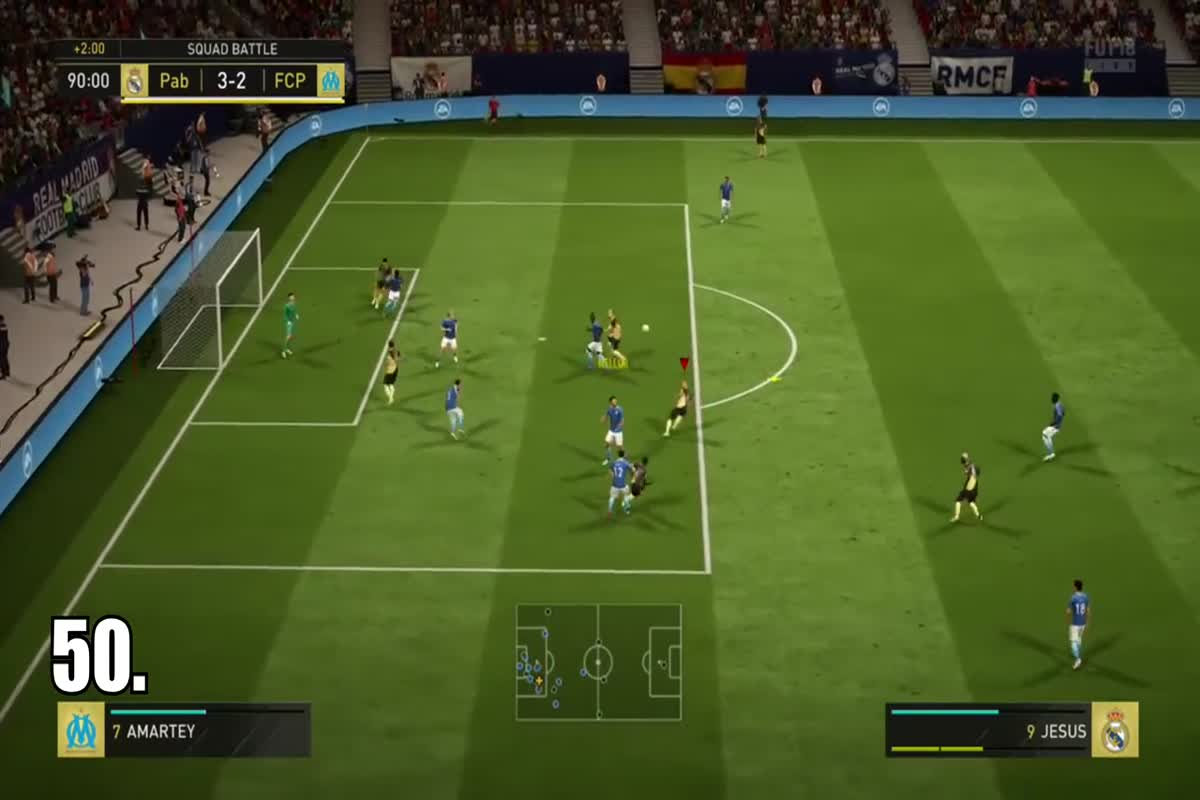ball: (633, 317, 663, 340)
